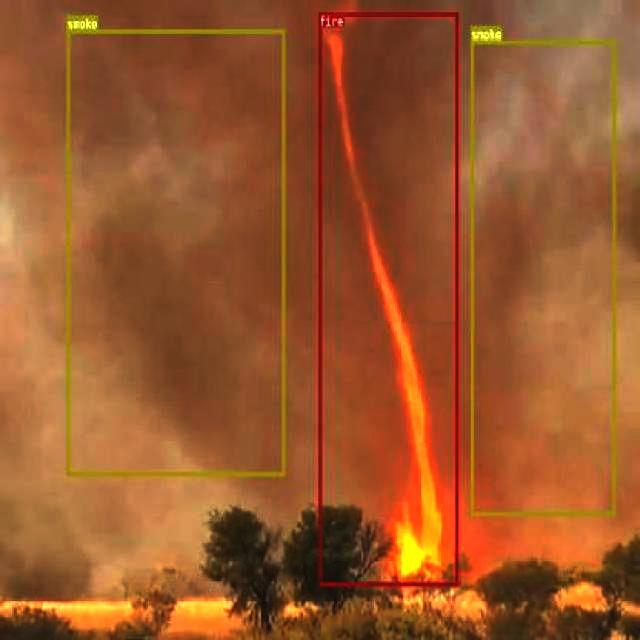fire: (318, 12, 458, 586)
smoke: (66, 29, 285, 476), (470, 39, 615, 515)
